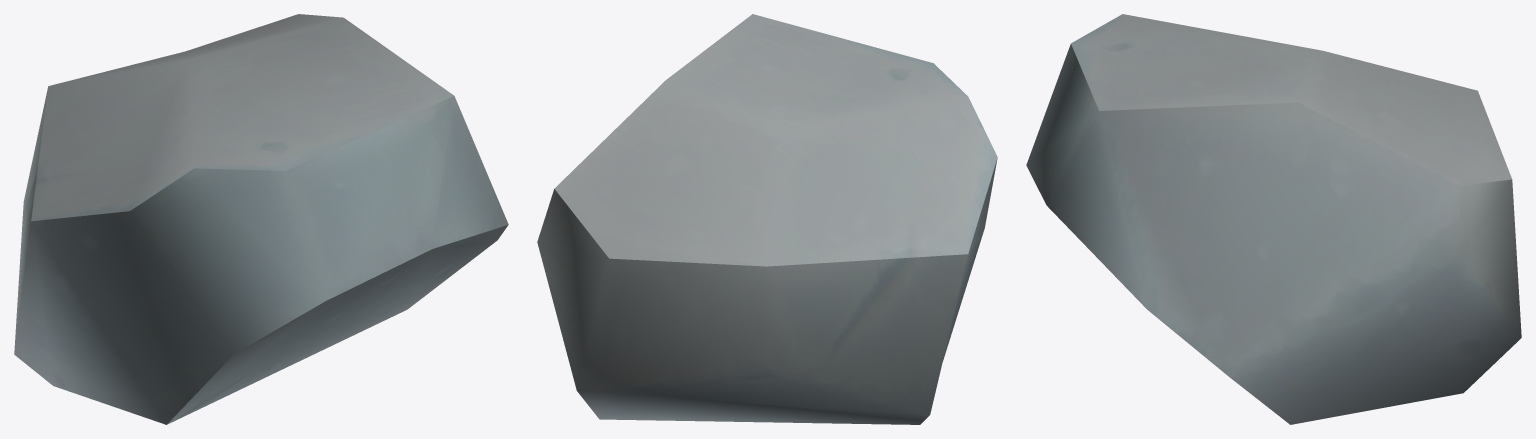
The model's file is Agent_Handheld_Stone.fbx.
3 views of the same model, side by side, from view 1: azimuth 30°, elevation 25°; view 2: azimuth 150°, elevation 25°; view 3: azimuth 270°, elevation 25° (orthographic). The views are drawn at different scales.
Parts seen in each view (by area): view 1: Pfb_Stone_01_4_2_Terrain; view 2: Pfb_Stone_01_4_2_Terrain; view 3: Pfb_Stone_01_4_2_Terrain.
Part boxes in pixels (bbox=[...]): Pfb_Stone_01_4_2_Terrain: bbox=[14, 14, 508, 424]; Pfb_Stone_01_4_2_Terrain: bbox=[537, 14, 997, 424]; Pfb_Stone_01_4_2_Terrain: bbox=[1026, 14, 1521, 424].
Bounding box in the file's own units: 0.267 × 0.1776 × 0.2689.
